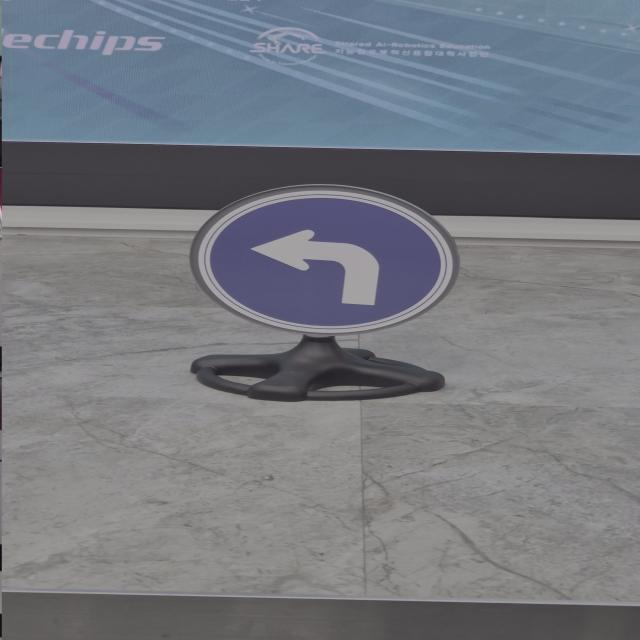left_direction: (179, 167, 479, 340)
